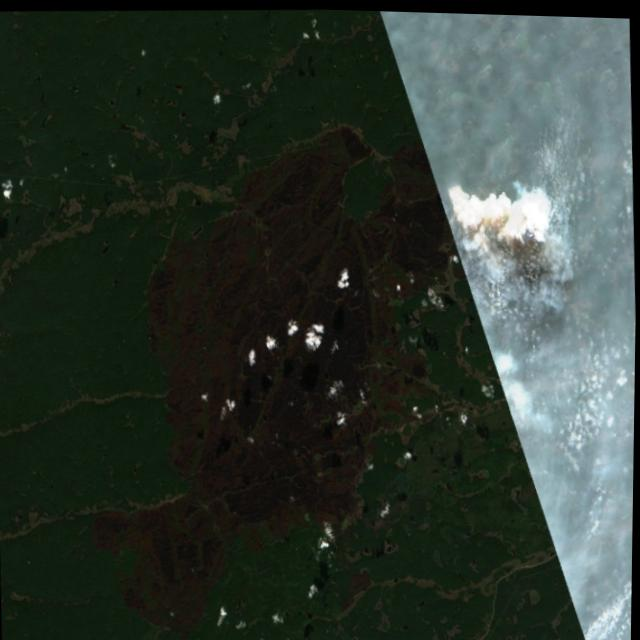fire: (428, 170, 471, 230)
